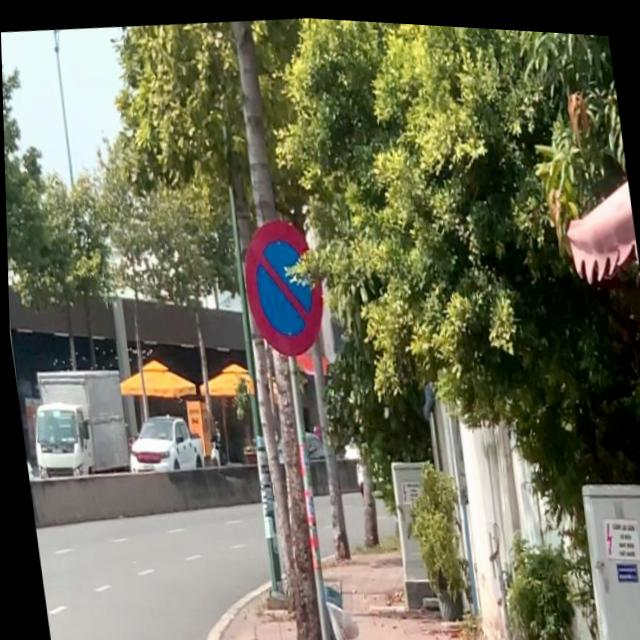Cam do xe: (231, 212, 334, 363)
